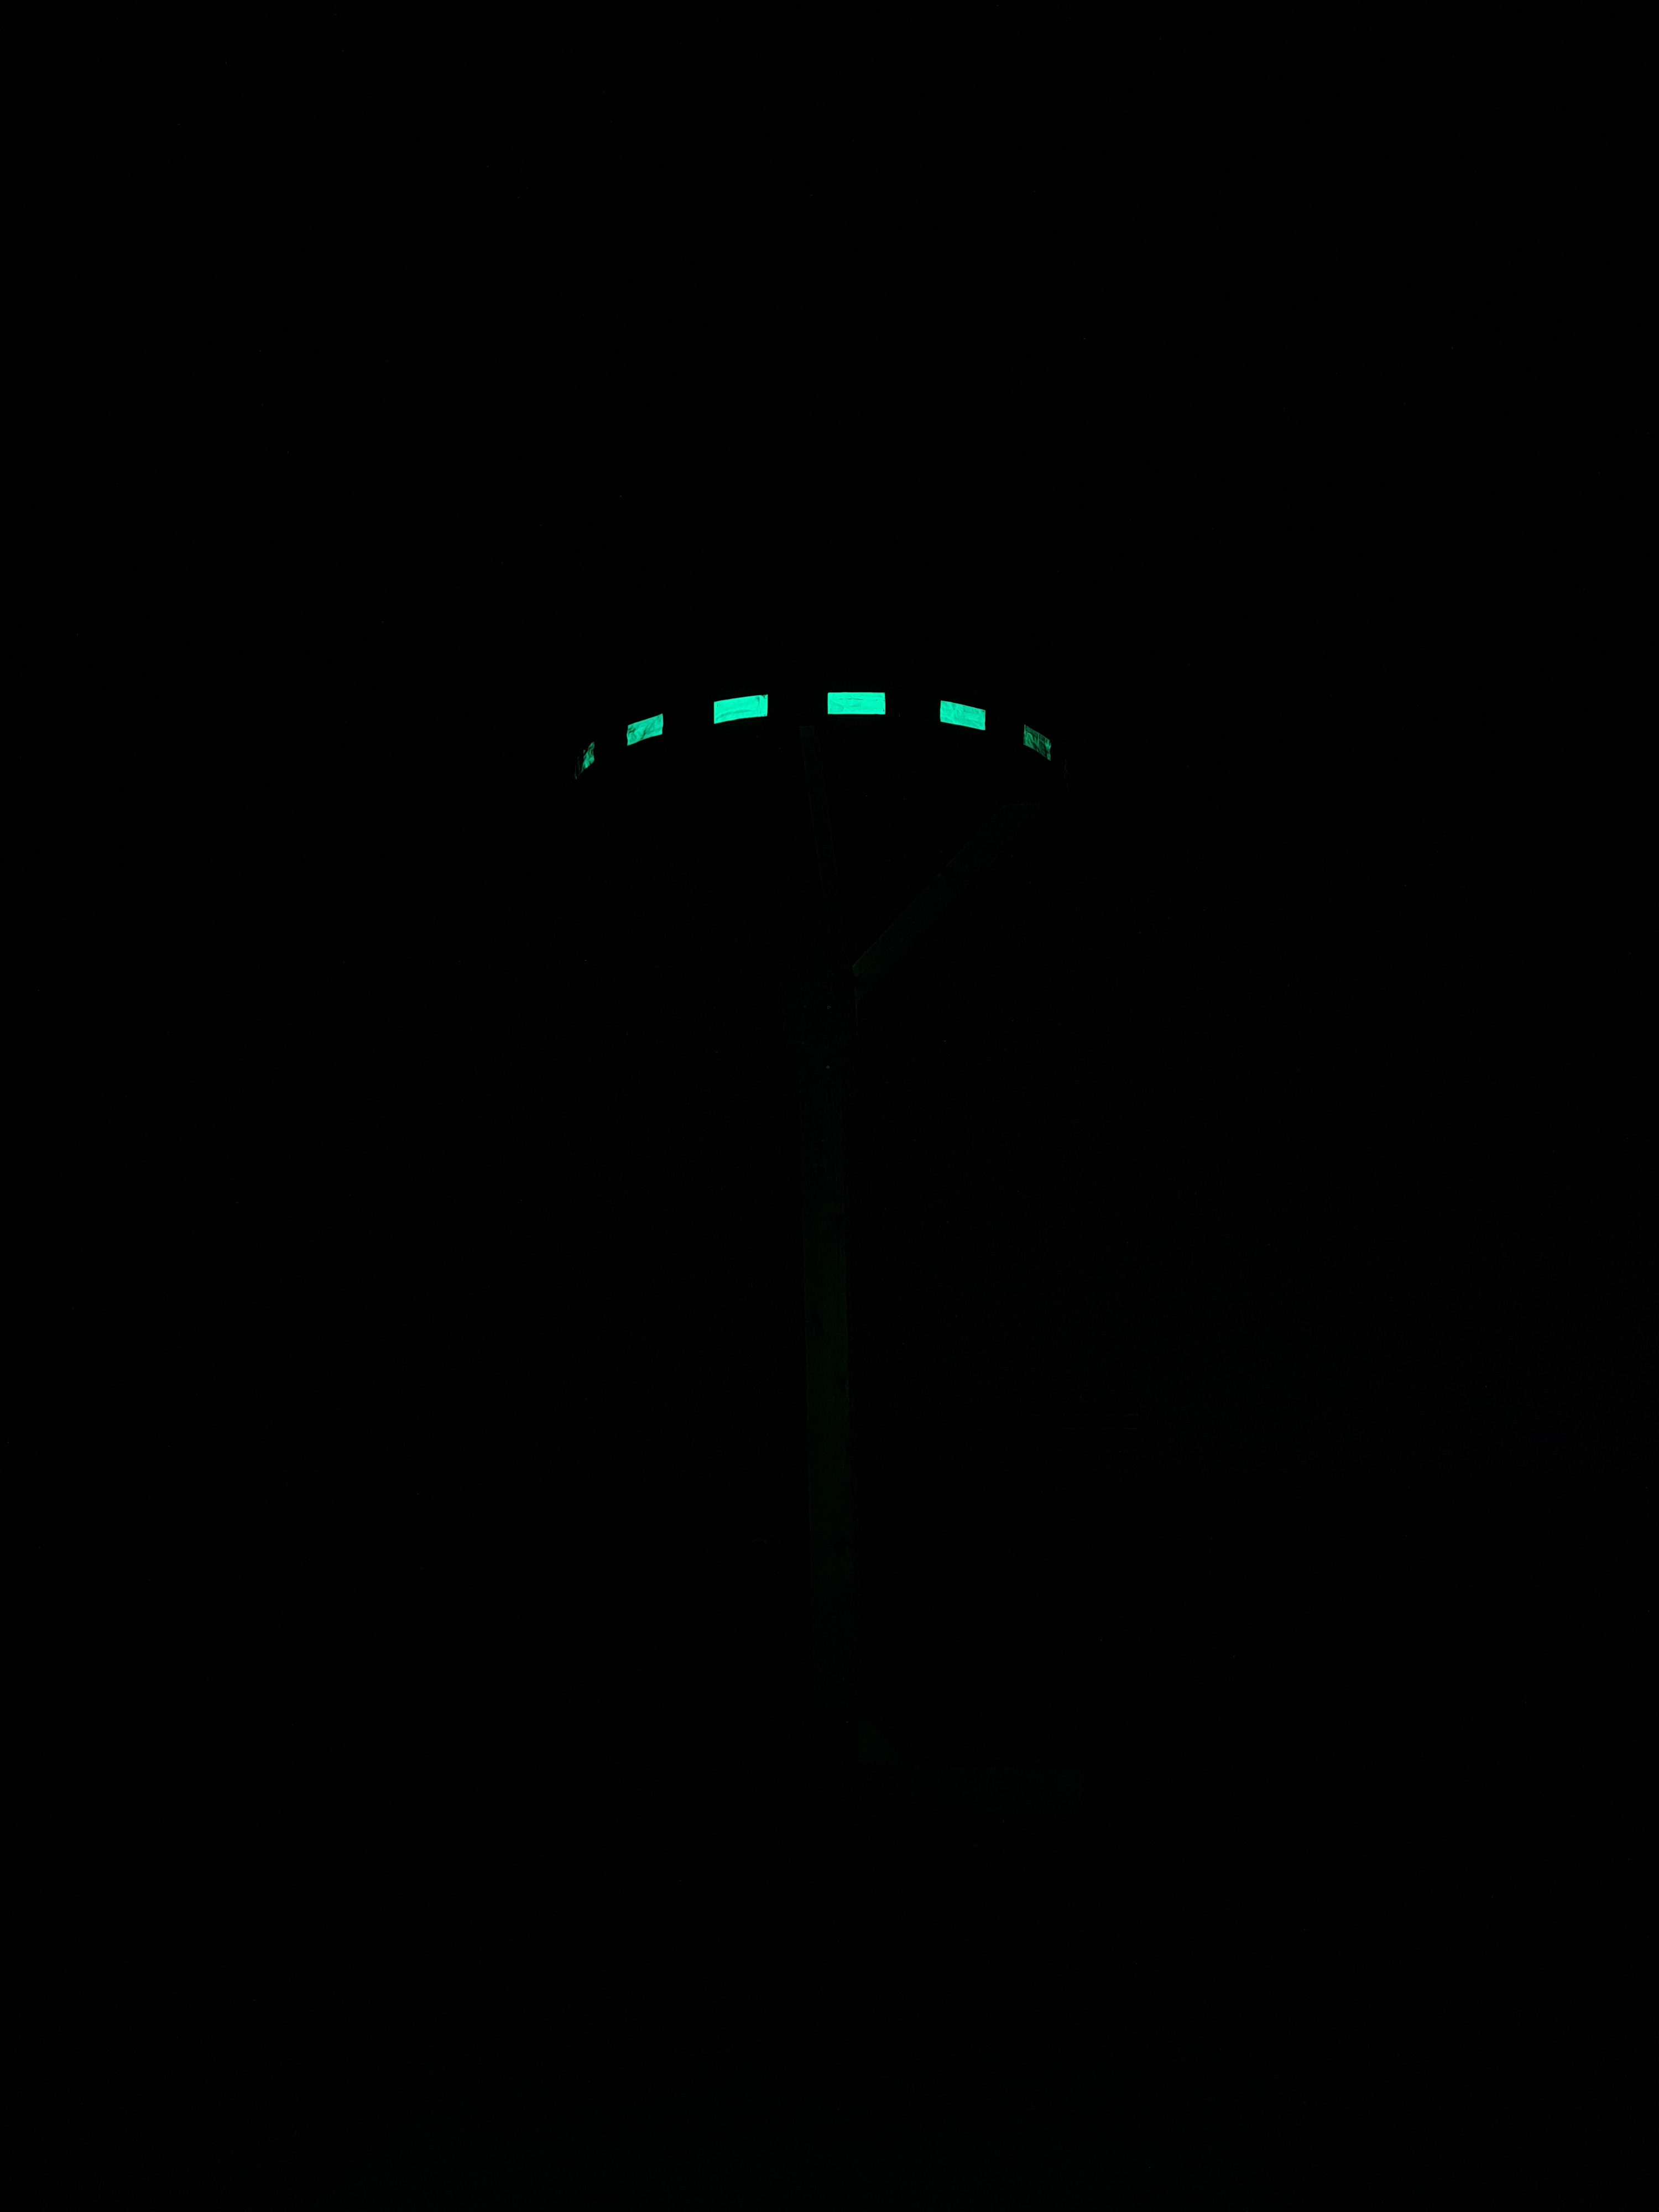hoop: (573, 678, 1058, 789)
